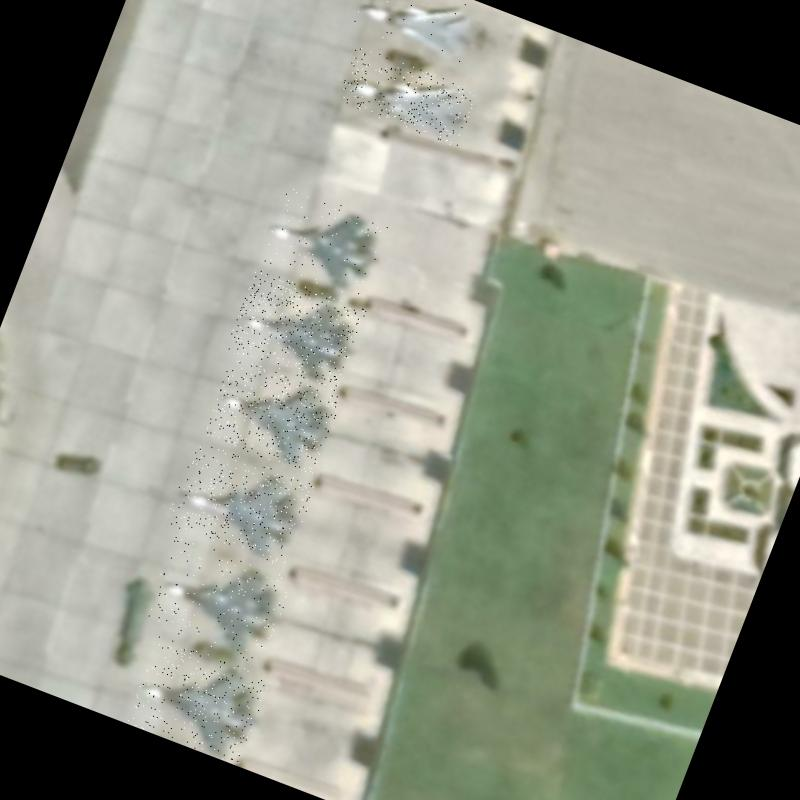A19: (142, 534, 294, 666), (164, 439, 316, 568), (125, 635, 270, 765), (225, 268, 366, 392), (202, 355, 342, 477), (254, 182, 391, 301)
A20: (334, 44, 478, 148), (348, 0, 489, 73)
